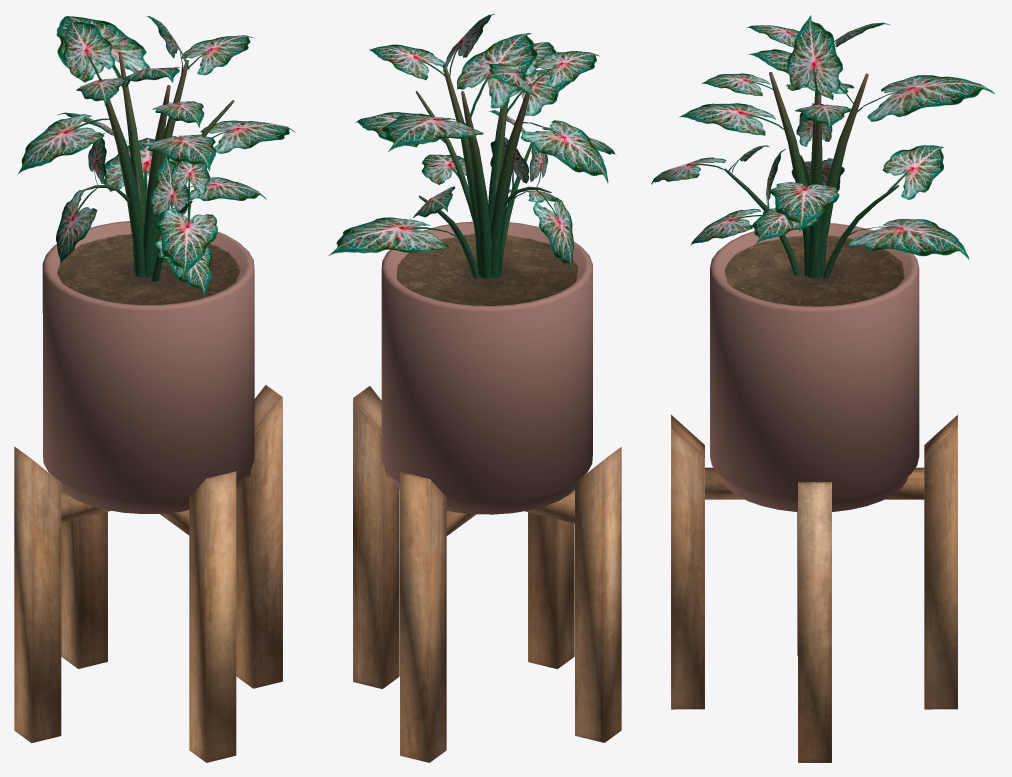
The model's file is indoor_qaqa.glb.
3 views of the same model, side by side, from view 1: azimuth 30°, elevation 25°; view 2: azimuth 150°, elevation 25°; view 3: azimuth 270°, elevation 25° (orthographic).
Parts seen in each view (by area): view 1: planter_low, base-wood_low, Plane.012, Plane.017, Plane.018, Plane.025, Plane, Plane.021, Plane.023, Plane.002, Plane.016, Plane.027 (+12 smaller); view 2: planter_low, base-wood_low, Plane.004, Plane.019, Plane.017, Plane.018, Plane, Plane.003, Plane.023, Plane.026, Plane.027, Plane.016 (+11 smaller); view 3: planter_low, base-wood_low, Plane.018, Plane.019, Plane.028, Plane.005, Plane.021, Plane.016, Plane.003, wood-support_low, Plane.001, Plane.002 (+8 smaller).
Boxes of the visible parts, <box> form: planter_low: <box>42,221,254,513</box>; base-wood_low: <box>14,385,282,762</box>; Plane.012: <box>156,202,217,277</box>; Plane.017: <box>17,114,110,174</box>; Plane.018: <box>56,16,149,88</box>; Plane.025: <box>63,20,114,78</box>; Plane: <box>101,78,145,277</box>; Plane.021: <box>200,120,295,153</box>; Plane.023: <box>56,188,97,263</box>; Plane.002: <box>143,85,170,277</box>; Plane.016: <box>144,134,216,171</box>; Plane.027: <box>180,35,253,77</box>; planter_low: <box>381,221,592,514</box>; base-wood_low: <box>353,386,621,762</box>; Plane.004: <box>457,33,537,117</box>; Plane.019: <box>328,217,457,255</box>; Plane.017: <box>521,120,608,183</box>; Plane.018: <box>381,116,483,151</box>; Plane: <box>490,83,532,278</box>; Plane.003: <box>461,91,491,278</box>; Plane.023: <box>533,190,573,270</box>; Plane.026: <box>532,51,599,87</box>; Plane.027: <box>369,44,451,82</box>; Plane.016: <box>491,68,569,115</box>; planter_low: <box>710,223,919,511</box>; base-wood_low: <box>671,414,957,762</box>; Plane.018: <box>856,75,994,121</box>; Plane.019: <box>847,219,969,259</box>; Plane.028: <box>787,15,842,99</box>; Plane.005: <box>882,145,943,199</box>; Plane.021: <box>769,179,839,232</box>; Plane.016: <box>679,103,784,135</box>; Plane.003: <box>821,73,868,275</box>; wood-support_low: <box>705,467,924,499</box>; Plane.001: <box>807,95,822,278</box>; Plane.002: <box>769,72,809,276</box>.
Size of the model in its own units: 0.5445 by 1.34 by 0.6172.
Materials: 1 (1 with a texture image).
